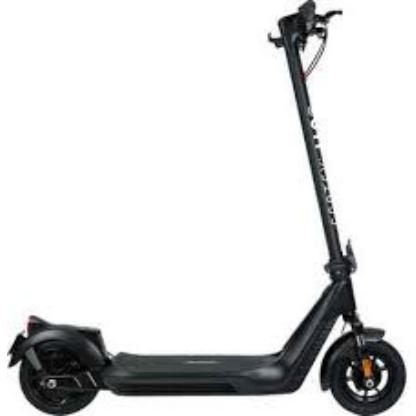bike: (0, 5, 408, 416)
